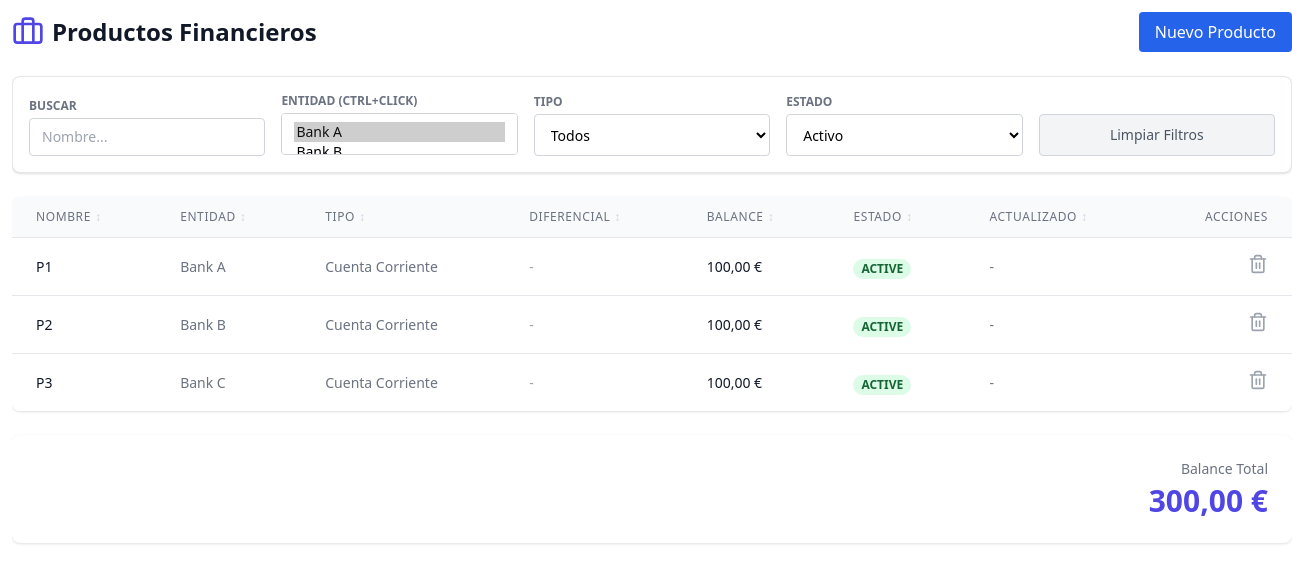
ProductsPage › filters products by multiple entities
Check: the text "P1" is shown, box 12,238 -> 156,296
Select "Bank A" in the dropdown labelled "Entidad (Ctrl+Click)". click: (400, 134)
box: 281,113 -> 518,155
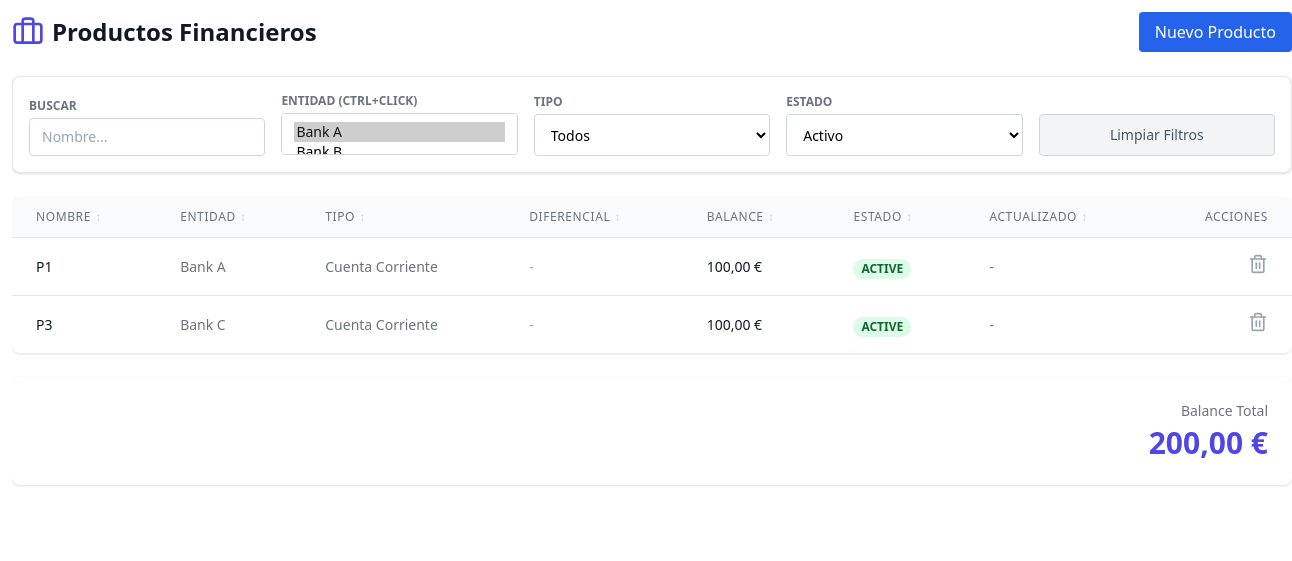
Check: the text "P1" is shown, box 12,238 -> 156,296
Check: the text "P2" is gone
